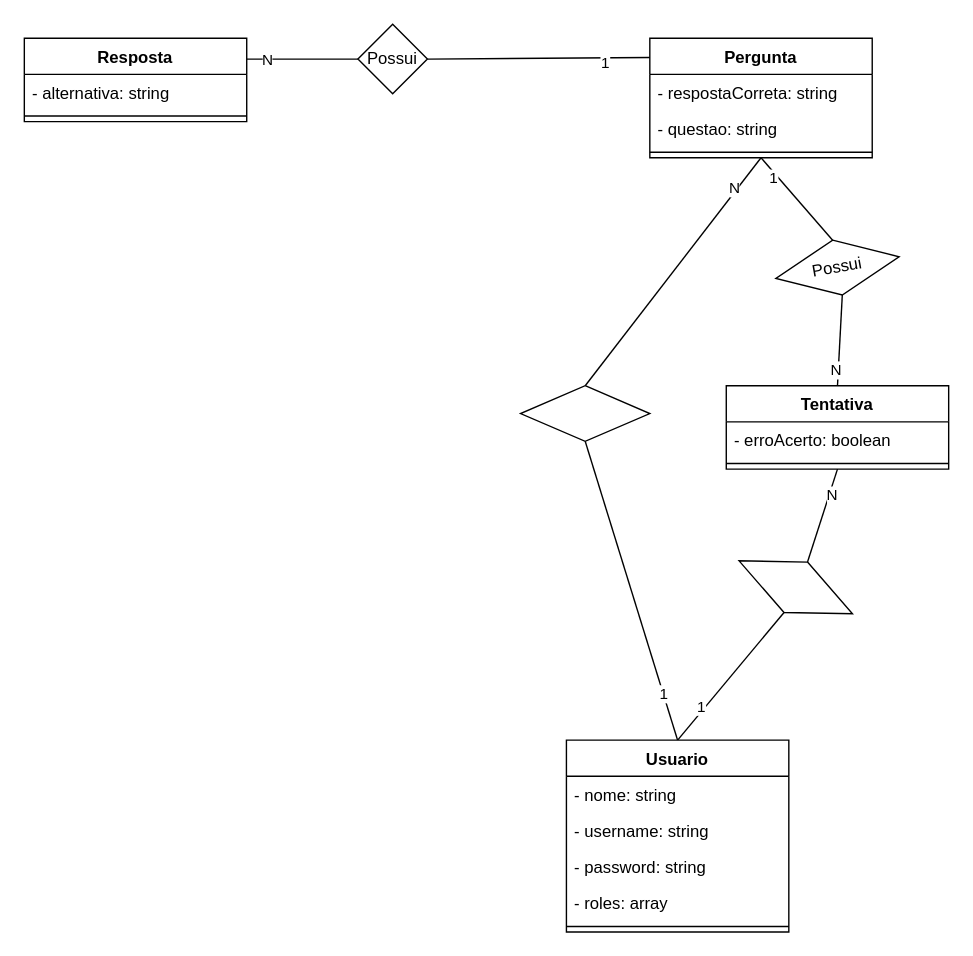
This 973x956 diagram has some shape labels left out. Each missing label, with the centre of its shape:
"Cria" belongs at point (584, 412).
"Faz" belongs at point (795, 586).
